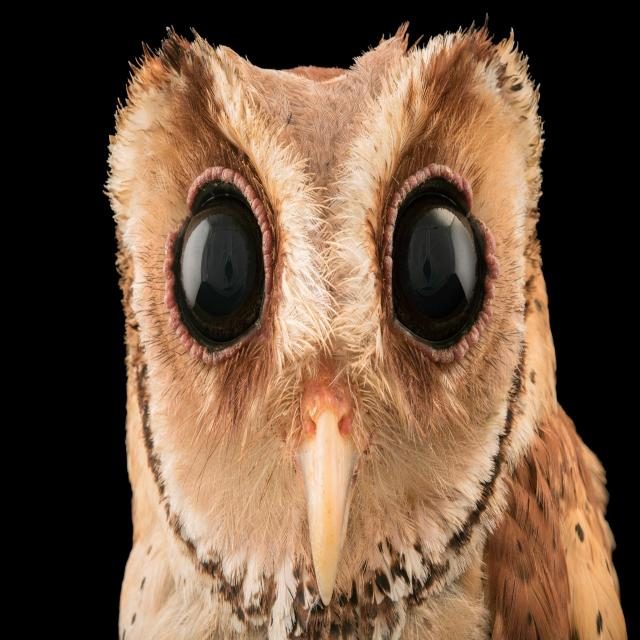owl: (107, 26, 626, 640)
